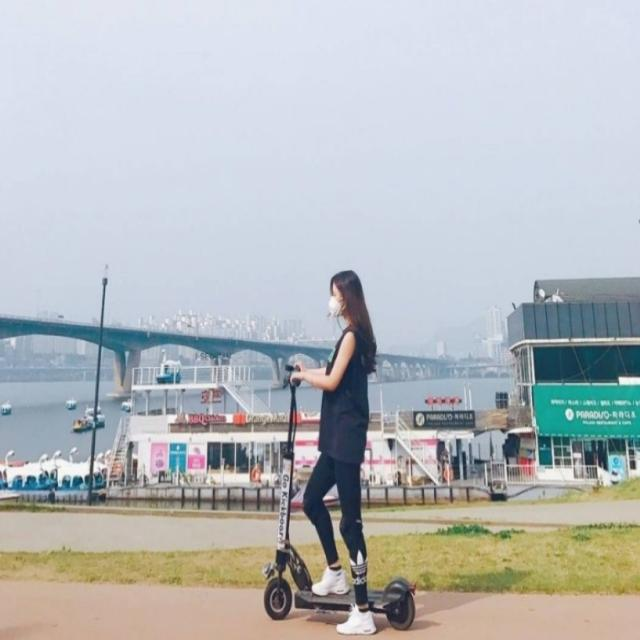non-helmet: (234, 223, 434, 640)
